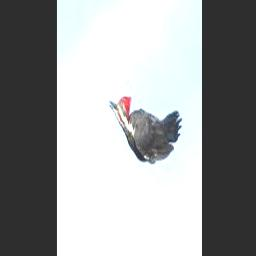Woodpecker: (110, 95, 183, 162)
